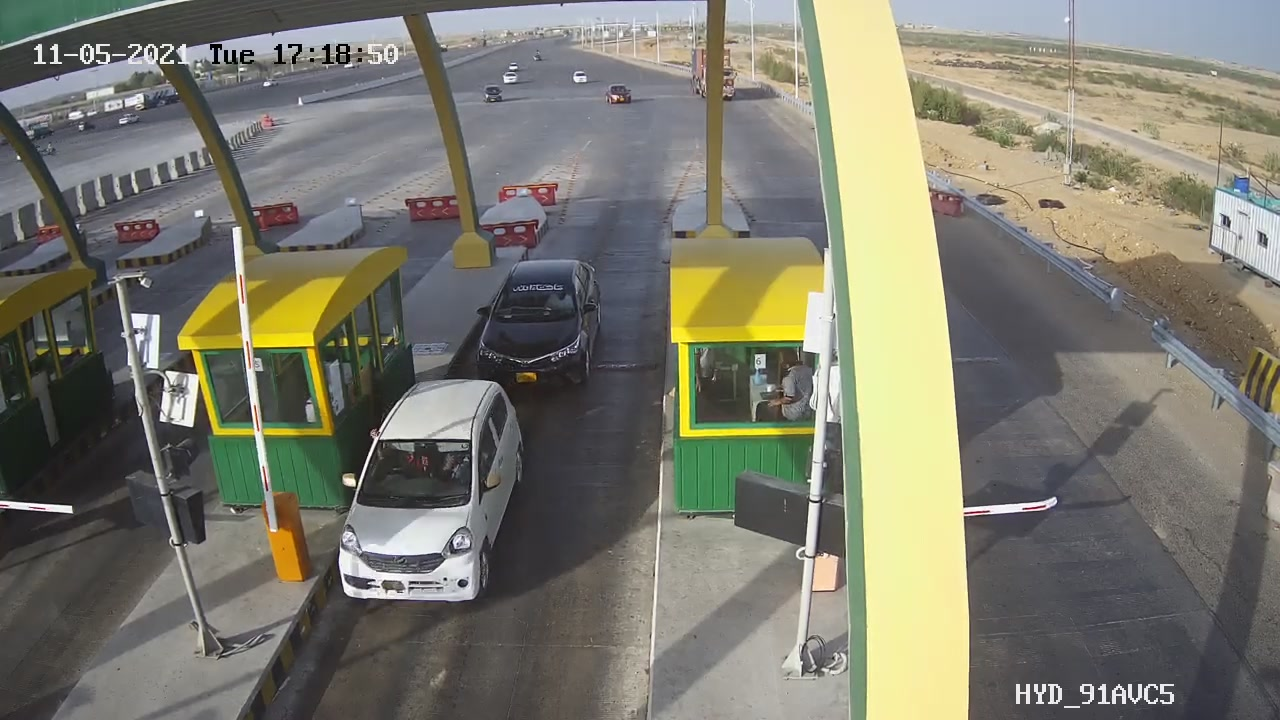F1: (326, 362, 547, 617), (466, 246, 618, 409)
